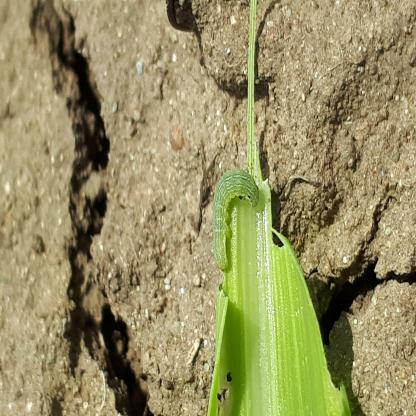armyworm: (82, 375, 140, 416)
